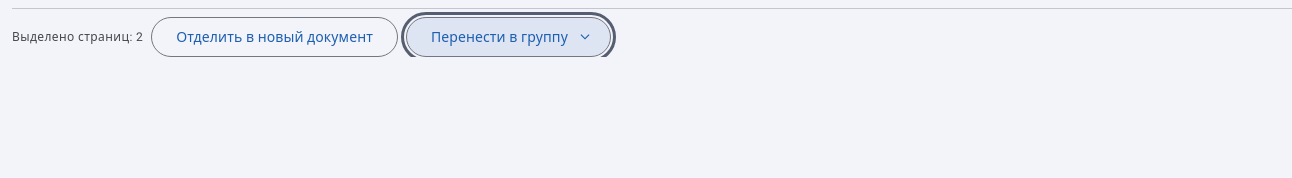
Test: SelectionActionBar: «Перенести в группу» › щелчок мимо закрывает меню без переноса
The image size is (1292, 178).
Press Enter in the button "Перенести в группу", box left=406, top=17, right=611, bottom=57
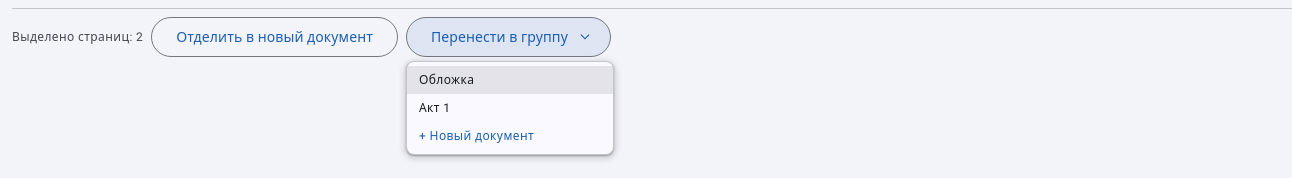
Press the mouse on the element that starts with "Выделено страниц:" at (652, 28), box left=12, top=0, right=1291, bottom=57
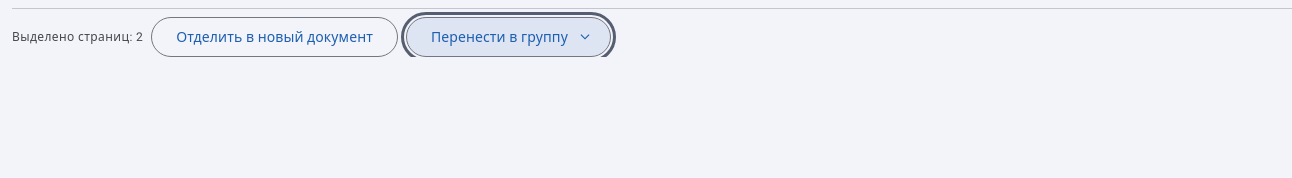
Expected: the menu is gone
